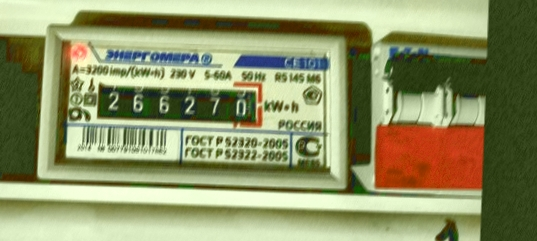0: (233, 95, 247, 116)
2: (106, 89, 119, 110), (183, 94, 196, 114)
6: (131, 91, 143, 112), (157, 93, 170, 112)
7: (209, 95, 219, 114)
screen: (84, 71, 269, 133)
